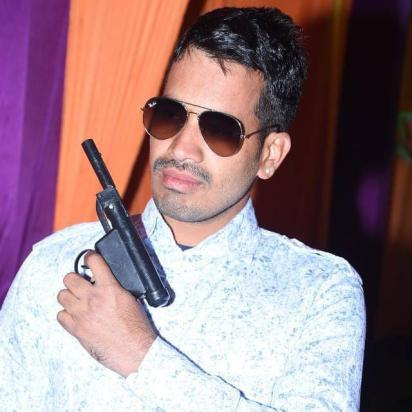Gun: (55, 134, 176, 327)
